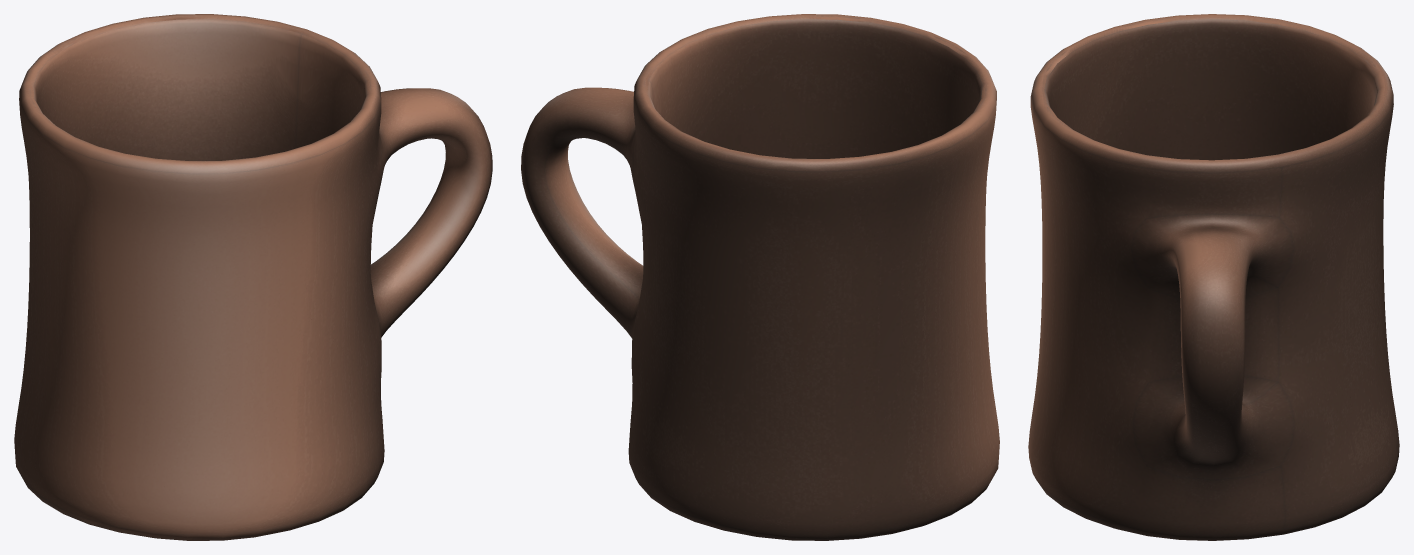
The model's file is java.obj.
3 views of the same model, side by side, from view 1: azimuth 30°, elevation 25°; view 2: azimuth 150°, elevation 25°; view 3: azimuth 270°, elevation 25° (orthographic).
Parts seen in each view (by area): view 1: coffe_cup; view 2: coffe_cup; view 3: coffe_cup.
Boxes of the visible parts, x1,y1,x2,y2 form: coffe_cup: (14,14,492,540); coffe_cup: (521,14,999,540); coffe_cup: (1028,14,1399,540).
Bounding box in the file's own units: 14.35 × 11.73 × 10.33.
Materials: 1 (1 with a texture image).
